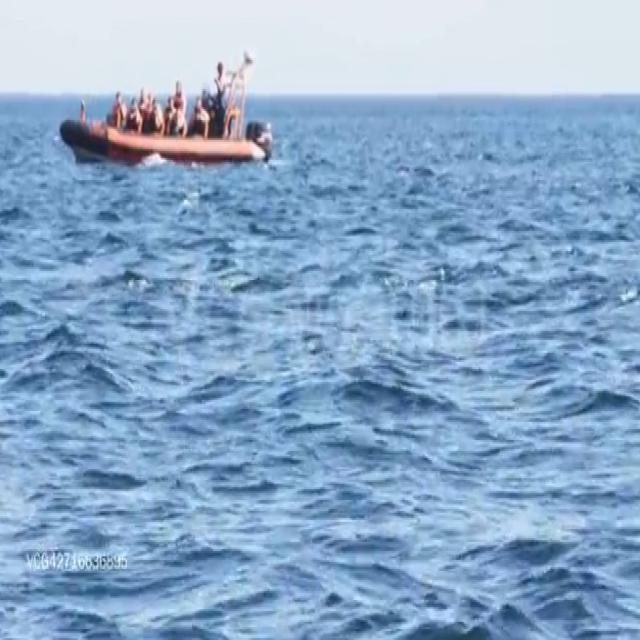houseboat: (55, 48, 272, 169)
